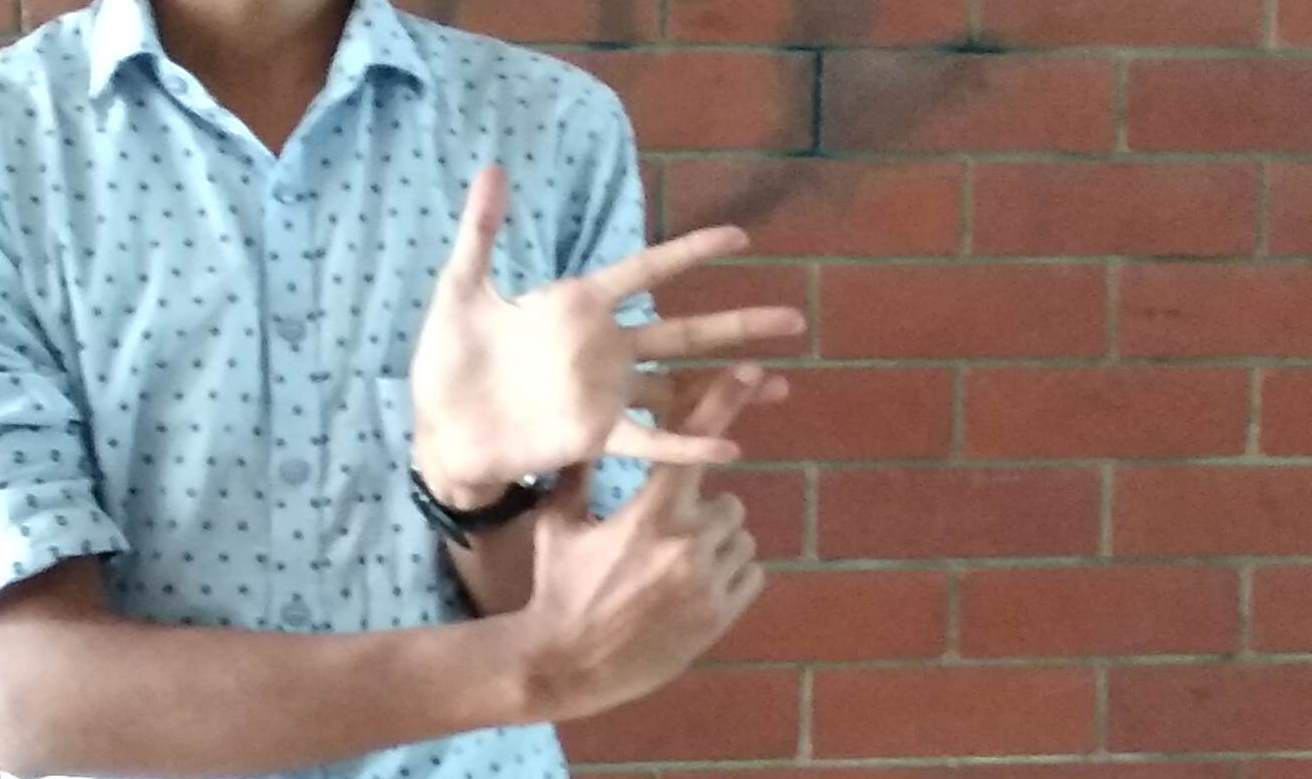e: (451, 211, 801, 604)
